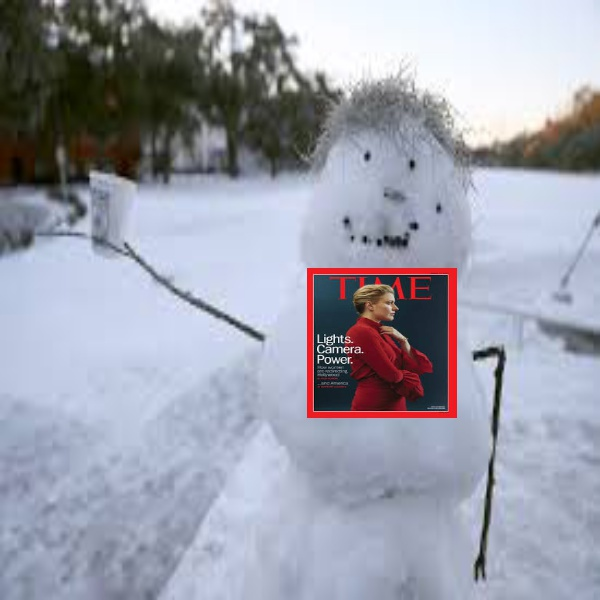time_cover: (305, 260, 462, 421)
